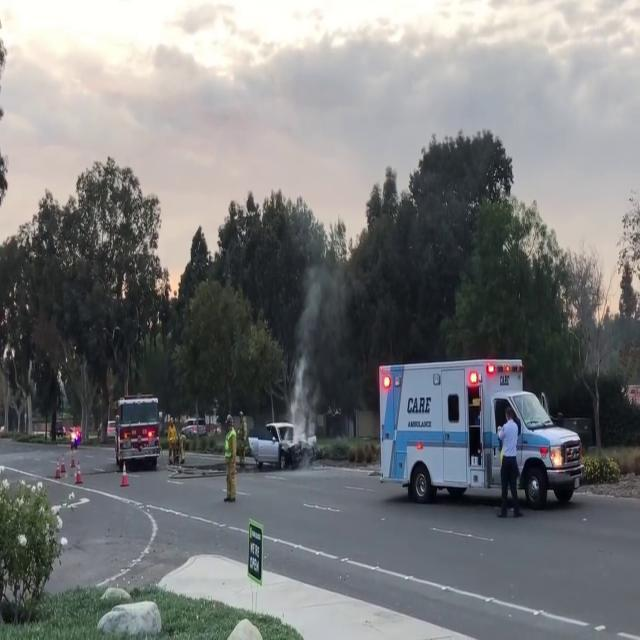Smoke: (289, 240, 363, 417)
